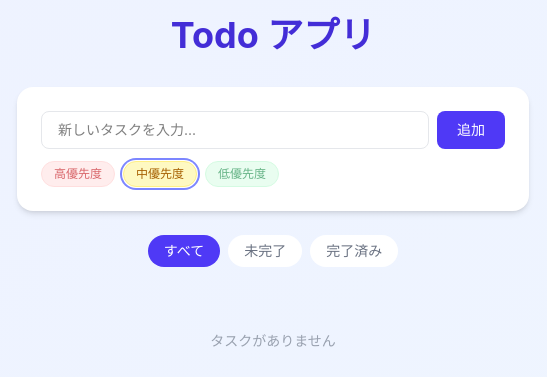
Test case: Home (Todo アプリ) › Todo の追加 › 「追加」ボタンでTodoを追加できる
Type "テストタスク" into the field with placeholder "新しいタスクを入力..." at x=235, y=130, box x1=41 y1=111 x2=429 y2=149
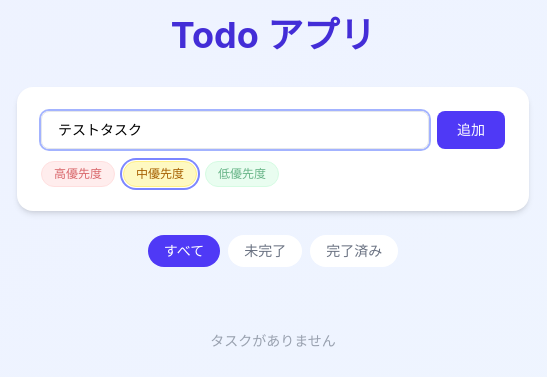
Click the button "追加" at x=471, y=130, box x1=437 y1=111 x2=505 y2=149
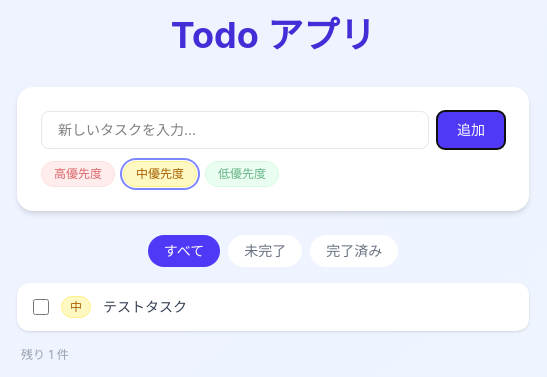
Result: the text "テストタスク" is shown at x1=103 y1=298 x2=187 y2=315
